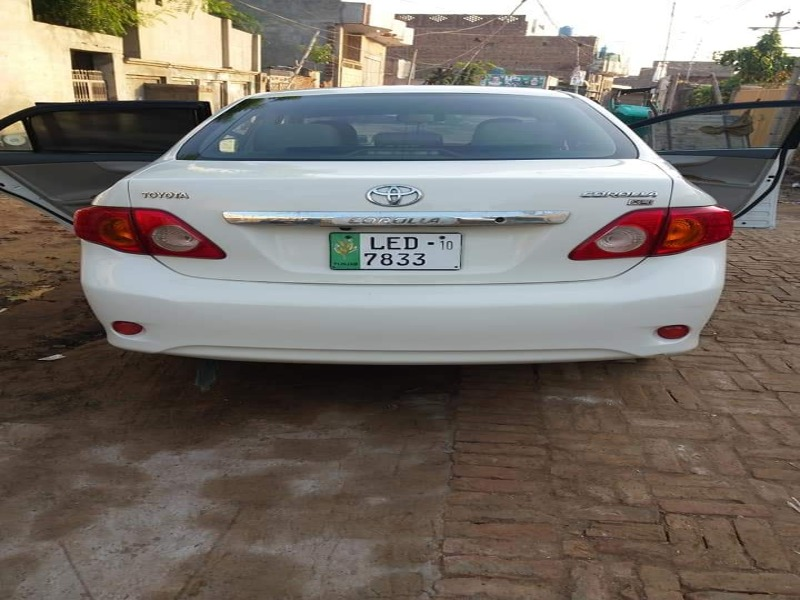License Plate: (323, 227, 466, 276)
